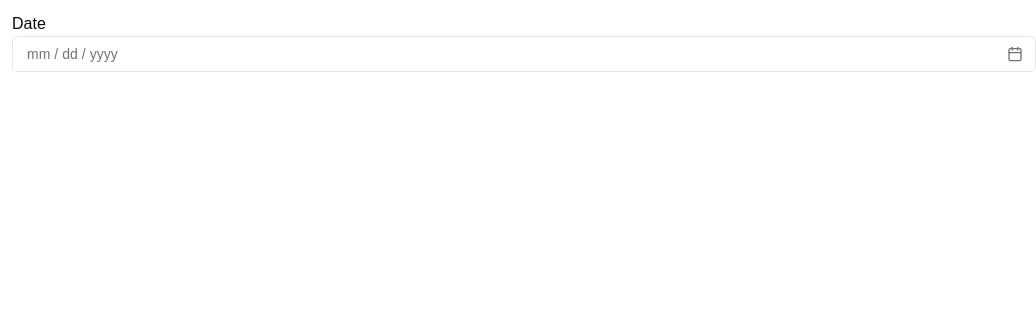
Scenario: DateField › popover interaction › opens calendar popover on calendar icon click
Click the button.
click(1015, 54)  # box [1007,46,1023,62]
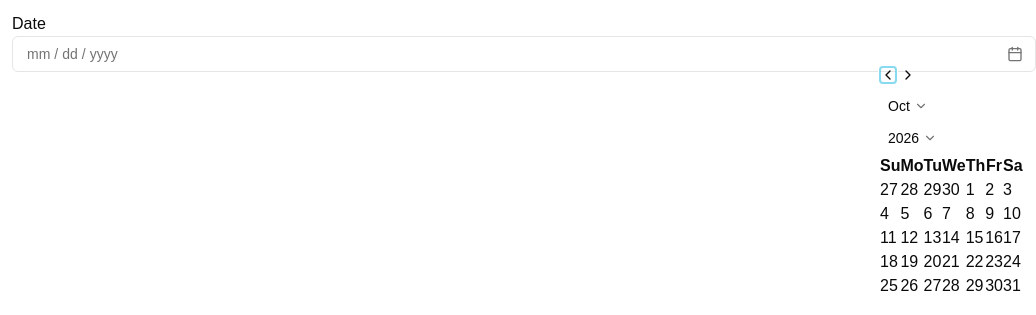
Result: the table is shown at [880,154,1023,298]
